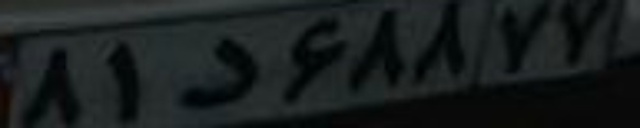1: (105, 42, 141, 121)
6: (283, 16, 346, 104)
7: (498, 0, 550, 76), (558, 0, 611, 68)
8: (22, 46, 83, 126), (410, 2, 470, 82), (351, 8, 404, 91)
dal: (173, 37, 261, 108)
